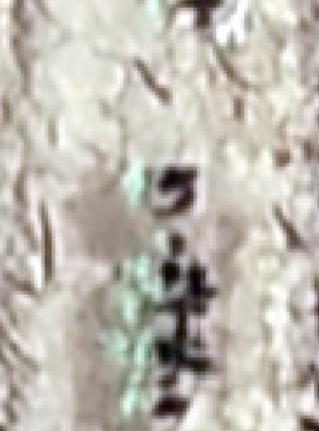cotton: (116, 333, 152, 367), (124, 164, 148, 203), (122, 387, 151, 411), (124, 290, 145, 323), (145, 276, 165, 304), (133, 259, 152, 281), (158, 232, 172, 254)
